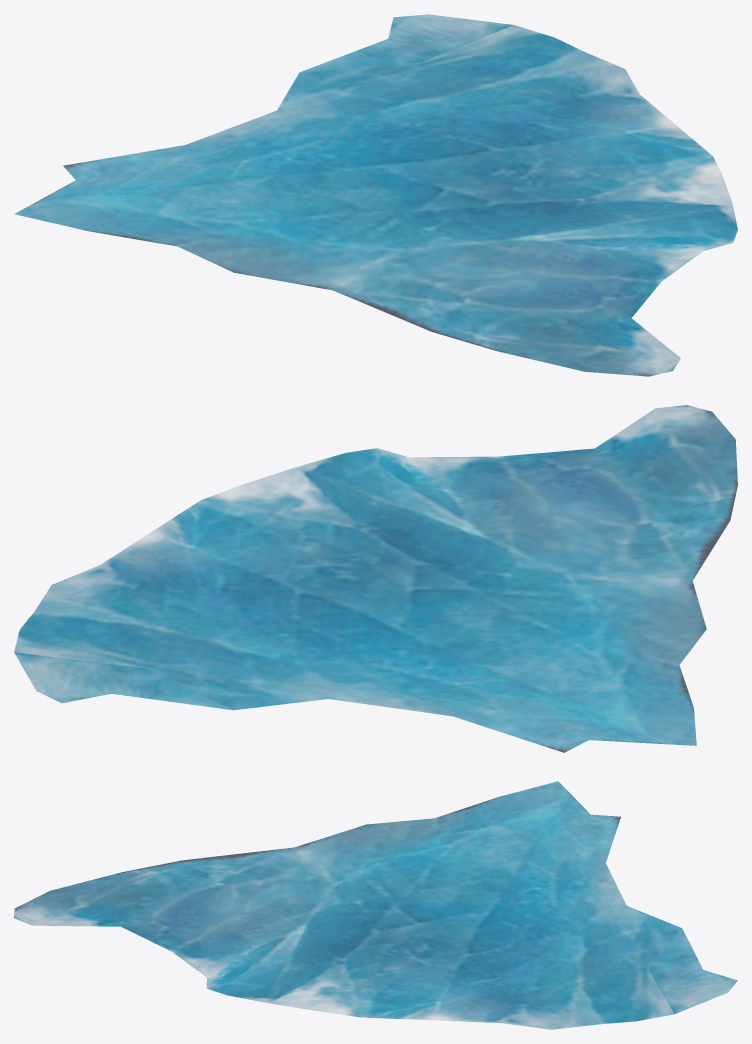
Rendered from 5013_Item_bing_3.FBX.
3 views of the same model, one above another, from view 1: azimuth 30°, elevation 25°; view 2: azimuth 150°, elevation 25°; view 3: azimuth 270°, elevation 25° (orthographic). The views are drawn at different scales.
Parts seen in each view (by area): view 1: 5013_Item_bing_3; view 2: 5013_Item_bing_3; view 3: 5013_Item_bing_3.
Boxes of the visible parts, x1,y1,x2,y2 form: 5013_Item_bing_3: (14,14,737,376); 5013_Item_bing_3: (14,405,737,752); 5013_Item_bing_3: (14,781,737,1029).
Bounding box in the file's own units: 1235 × 4.68 × 1523.
